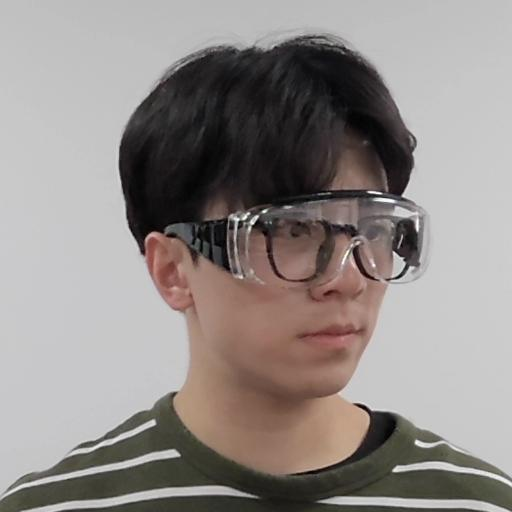glasses: (117, 47, 444, 403)
